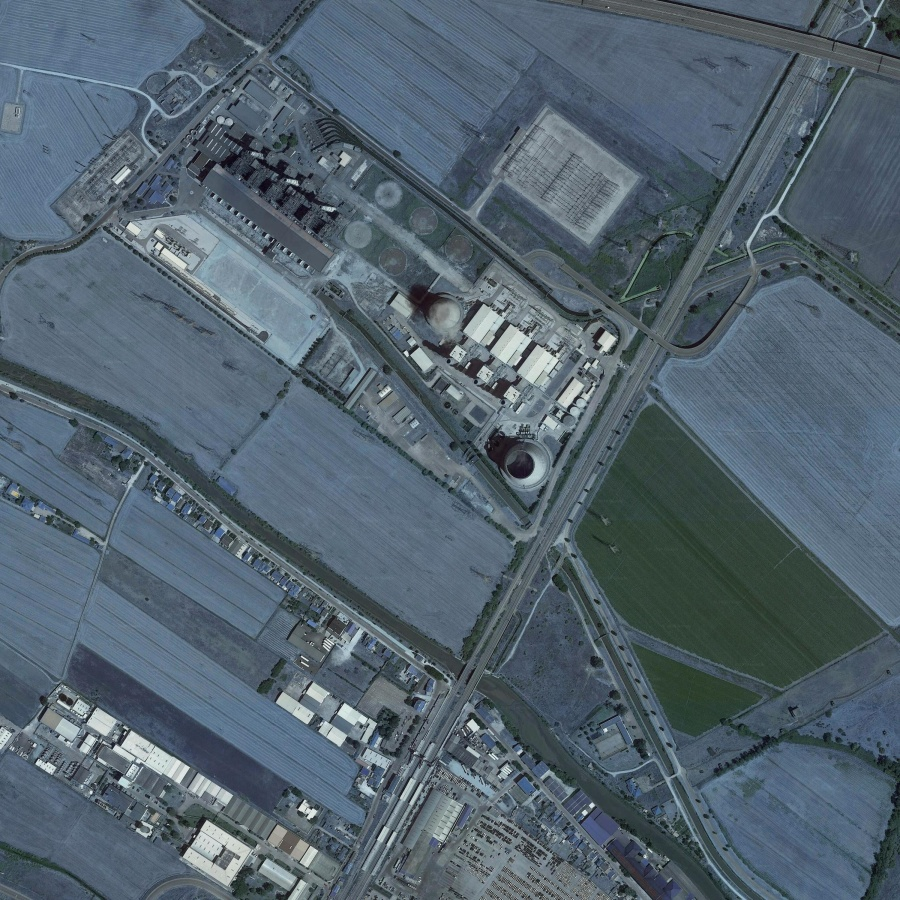PowerPlant: (160, 99, 614, 506)
